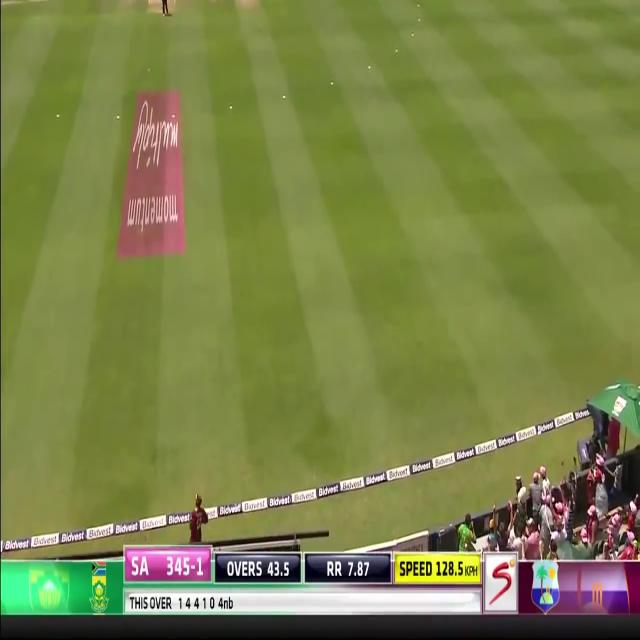Fielder: (183, 493, 213, 543), (156, 0, 171, 18)
